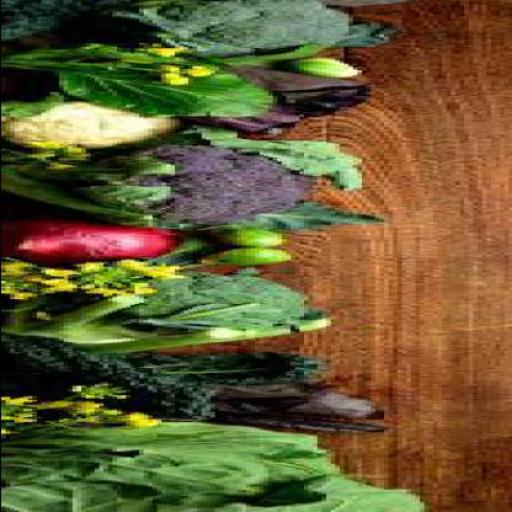biodegradable: (4, 422, 343, 511), (88, 144, 330, 230), (4, 291, 339, 350), (4, 334, 222, 423), (112, 1, 405, 57), (186, 64, 378, 134), (5, 152, 182, 225), (58, 61, 280, 115), (183, 125, 365, 189), (128, 270, 320, 326), (218, 380, 392, 430), (5, 216, 182, 263), (4, 102, 174, 150), (204, 477, 418, 511), (129, 348, 325, 383), (4, 0, 130, 41), (214, 201, 387, 230), (9, 43, 147, 65), (146, 235, 223, 267), (200, 247, 298, 264), (298, 54, 365, 76), (228, 224, 289, 246), (75, 400, 107, 420), (4, 410, 36, 429), (121, 414, 165, 427), (94, 382, 129, 398), (134, 137, 196, 145), (4, 393, 40, 406), (40, 397, 76, 409), (4, 286, 36, 299), (44, 157, 80, 167), (4, 260, 32, 272), (13, 271, 40, 283), (156, 270, 188, 280), (53, 265, 85, 275), (71, 145, 103, 155), (138, 281, 160, 294), (124, 259, 152, 269), (164, 72, 192, 82), (160, 60, 187, 70), (49, 276, 85, 283), (192, 62, 214, 72), (165, 46, 187, 56), (160, 264, 187, 270), (112, 408, 128, 417), (44, 286, 72, 290), (94, 261, 110, 268), (98, 288, 120, 293), (45, 140, 62, 144)
